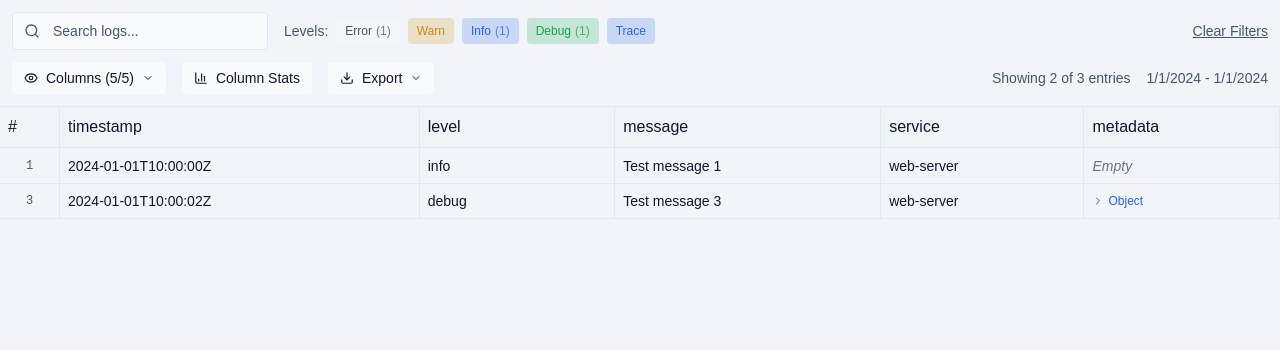
Scenario: JsonLogViewer › should handle column visibility toggle
// Open column manager - sample data has 5 columns: timestamp, level, message, service, metadata
Click the button "Columns (5/5)".
click(89, 78)  # box [12, 62, 166, 94]
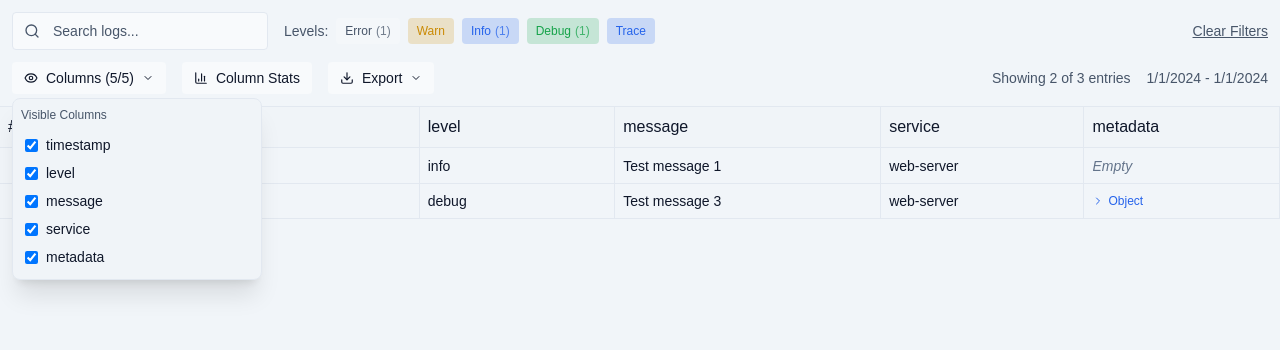
// Toggle off the service column
Click the checkbox labelled "service".
click(32, 229)  # box [25, 222, 38, 236]
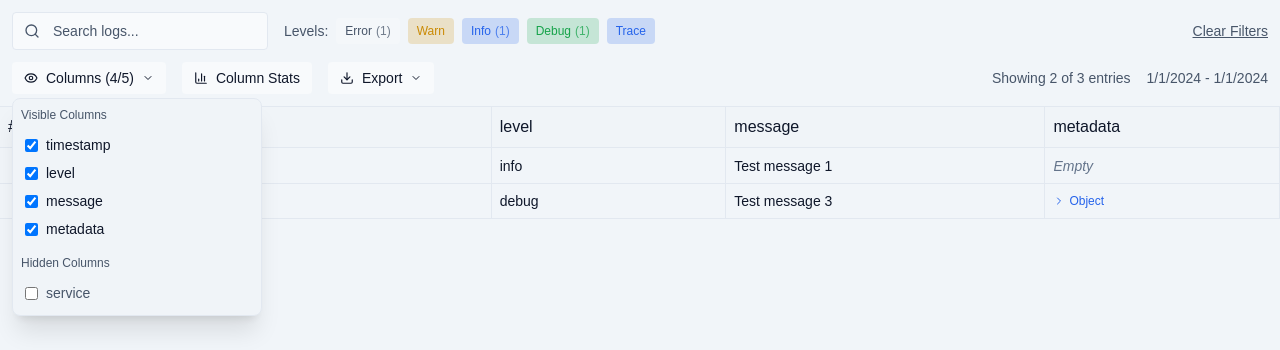
Expected: the text "Columns (4/5)" is shown, [46, 68, 134, 88]
